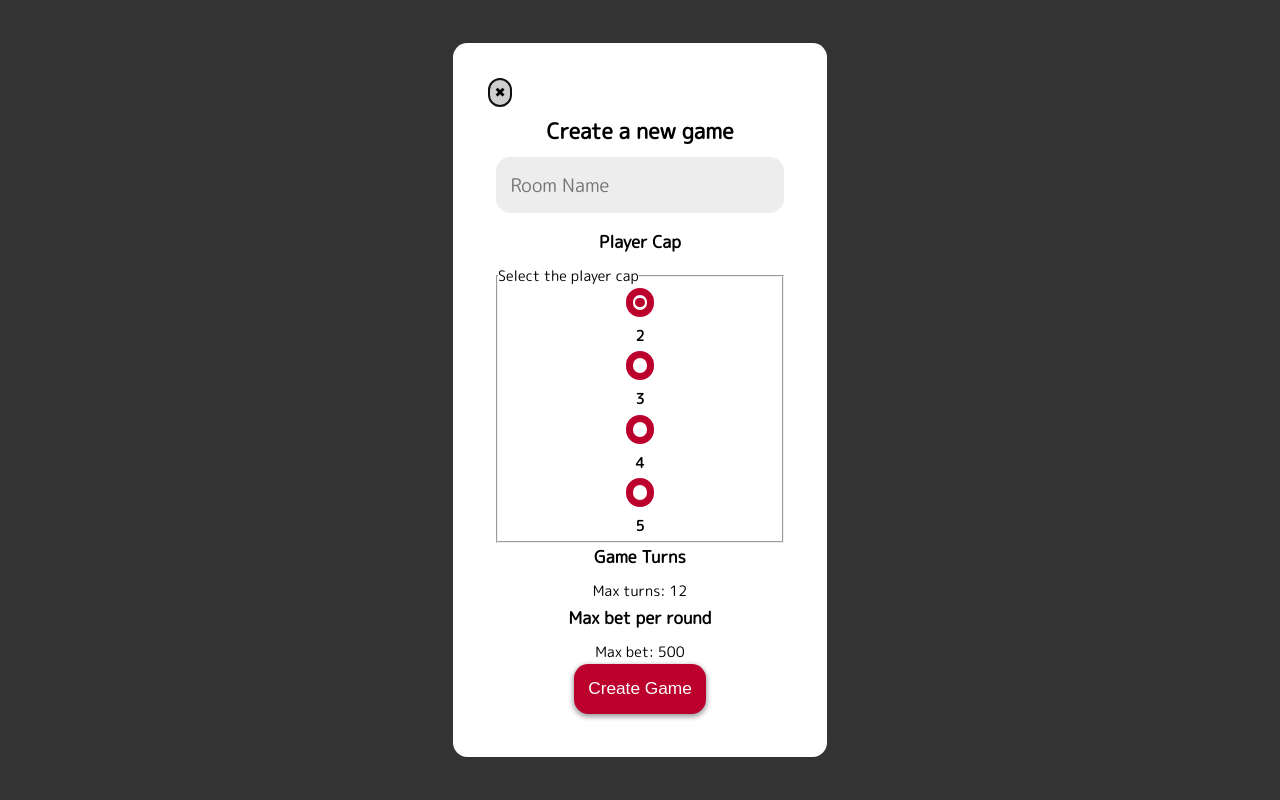
Test: CreateGameForm › shows an error toast when createNewGame rejects
Type "my-room" into the field with placeholder "Room Name".
click(640, 185); type("my-room")  # box top-left (496, 157), bottom-right (784, 213)
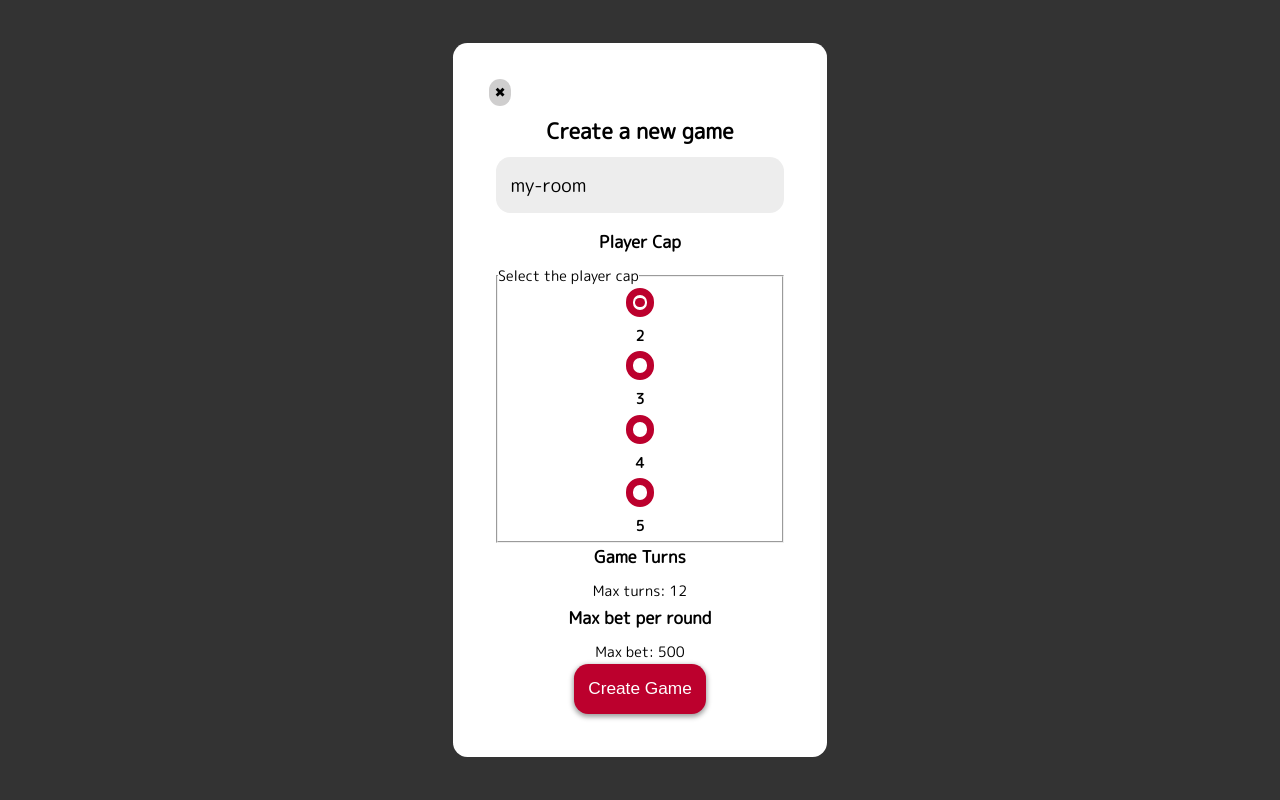
Click the button "Create Game".
click(640, 689)  # box top-left (574, 664), bottom-right (706, 714)
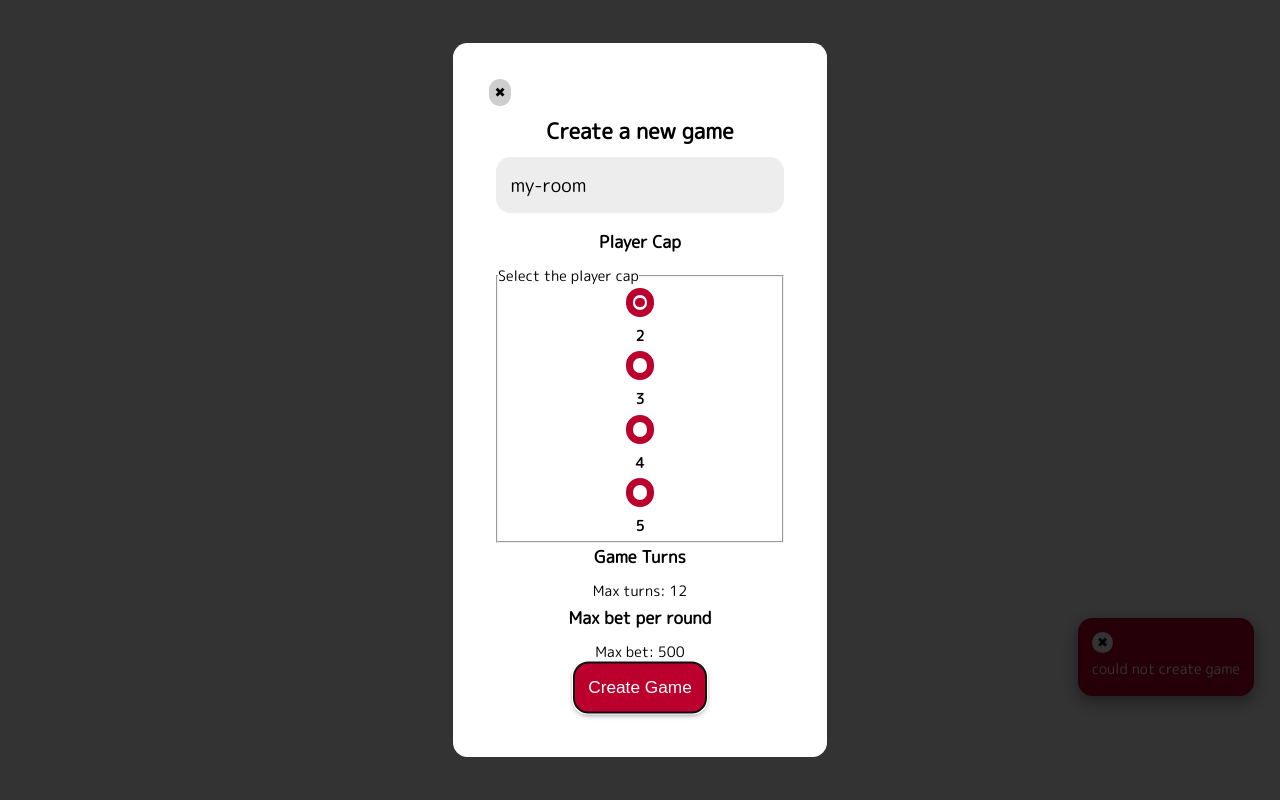
Expected: the element with class "toast" is shown, top-left (1078, 618), bottom-right (1254, 696)
